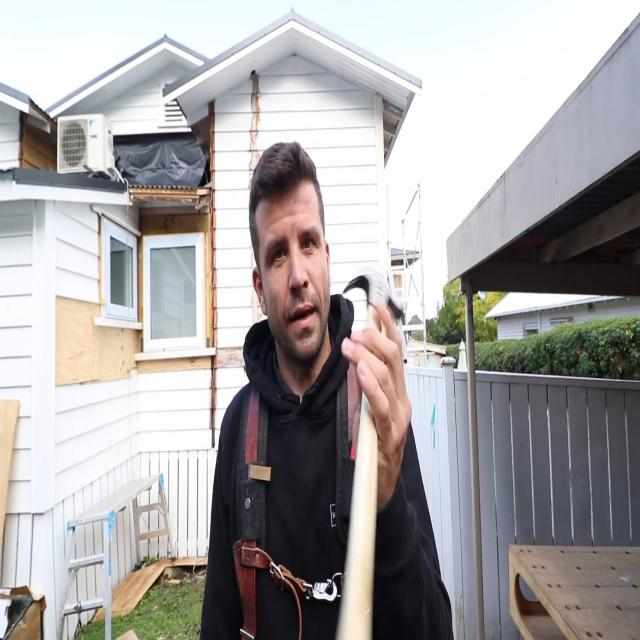hammer: (337, 266, 411, 638)
